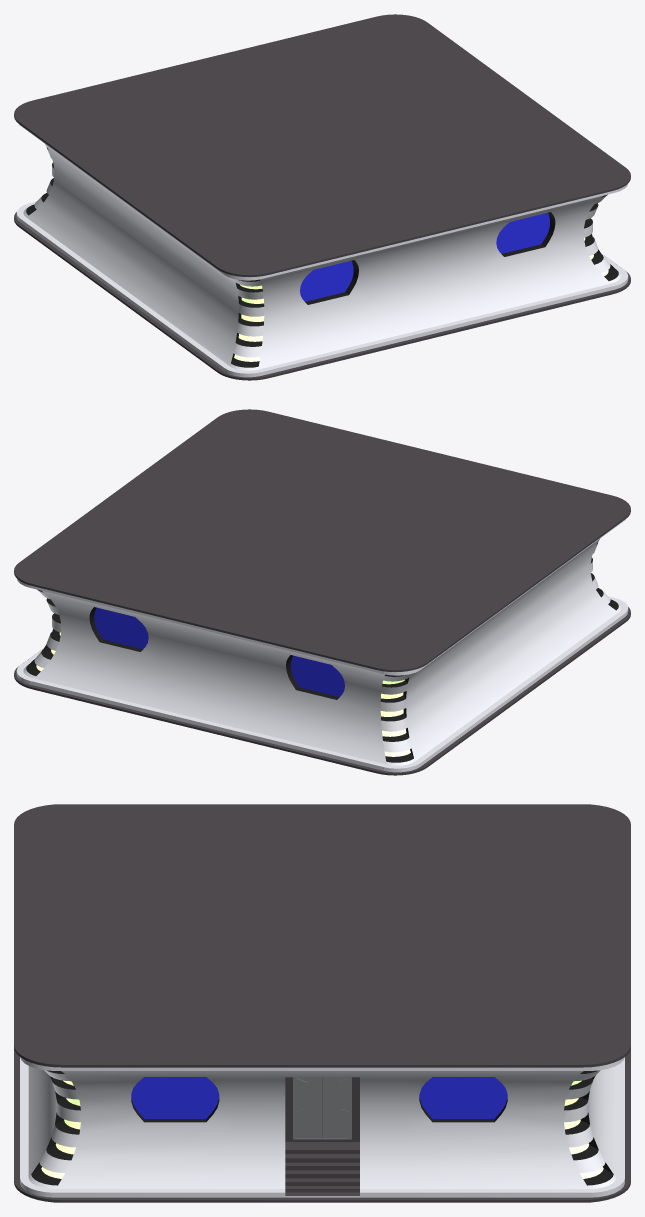
3 views of the same model, one above another, from view 1: azimuth 30°, elevation 25°; view 2: azimuth 150°, elevation 25°; view 3: azimuth 270°, elevation 25° (orthographic). The views are drawn at different scales.
Parts seen in each view (by area): view 1: SM_B_i10_Base; view 2: SM_B_i10_Base; view 3: SM_B_i10_Base.
Boxes of the visible parts, bbox=[...] form: SM_B_i10_Base: bbox=[14, 14, 630, 380]; SM_B_i10_Base: bbox=[14, 409, 630, 775]; SM_B_i10_Base: bbox=[14, 804, 630, 1202].
Size of the model in its own units: 2100 by 518 by 2100.
